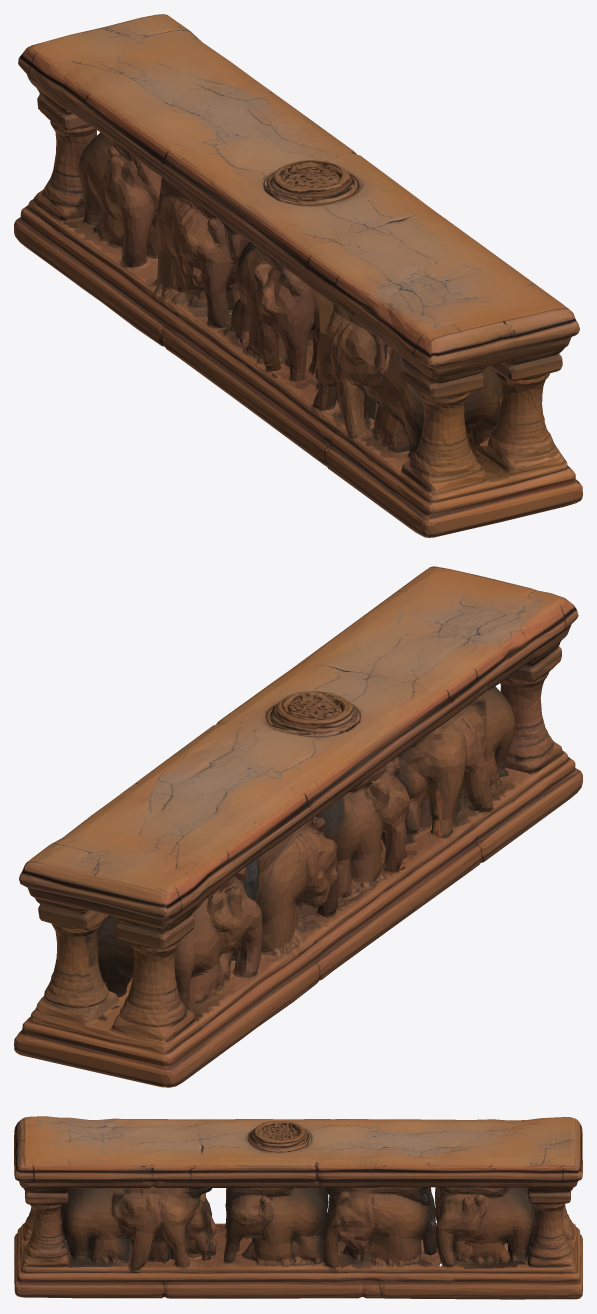
File: gajalakshmi-lintel-beam-optimized.glb
3 renders of one model, top to bottom at view 1: azimuth 30°, elevation 25°; view 2: azimuth 150°, elevation 25°; view 3: azimuth 270°, elevation 25°, orthographic. The views are drawn at different scales.
Parts seen in each view (by area): view 1: 62e7cdd0-26cd-45bf-b437-fe52e873d5d8_texturing.obj; view 2: 62e7cdd0-26cd-45bf-b437-fe52e873d5d8_texturing.obj; view 3: 62e7cdd0-26cd-45bf-b437-fe52e873d5d8_texturing.obj.
Part boxes in pixels (left/top/right/bottom): 62e7cdd0-26cd-45bf-b437-fe52e873d5d8_texturing.obj: left=14, top=14, right=582, bottom=537; 62e7cdd0-26cd-45bf-b437-fe52e873d5d8_texturing.obj: left=14, top=566, right=582, bottom=1087; 62e7cdd0-26cd-45bf-b437-fe52e873d5d8_texturing.obj: left=14, top=1116, right=582, bottom=1299.
Size of the model in its own units: 0.7913 by 0.9703 by 3.5.
1 material, 1 textured.
